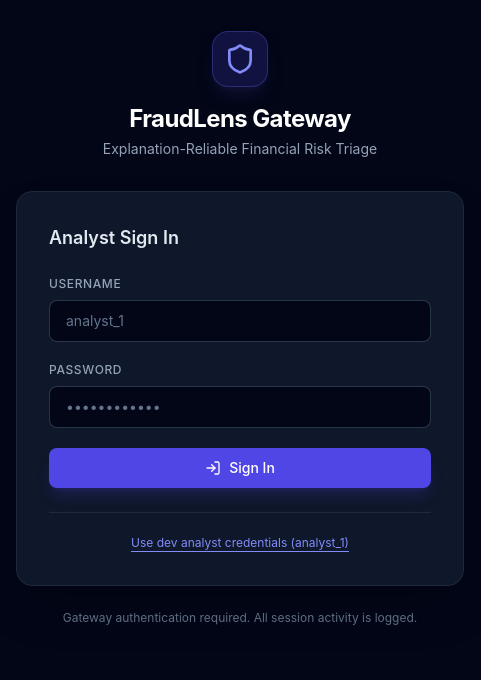
Test: Login Page workflow › submits credentials and handles login error
Type "wrong_user" into the field labelled "Username". click: (240, 320)
box: top-left (49, 300), bottom-right (431, 342)
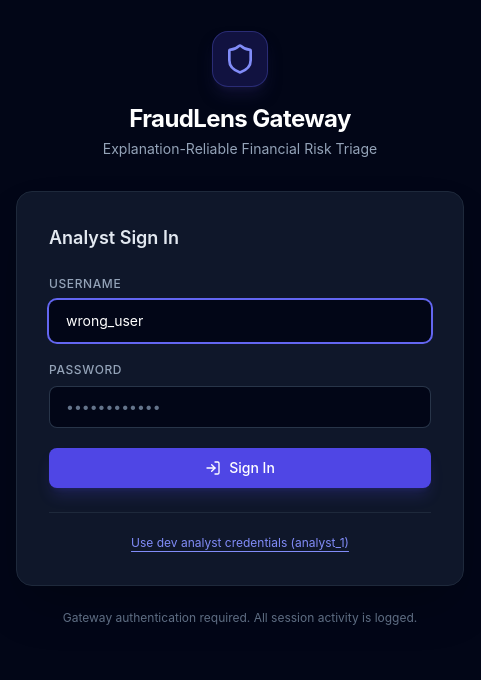
Type "wrong_password" into the password field labelled "Password". click: (240, 406)
box: top-left (49, 386), bottom-right (431, 428)
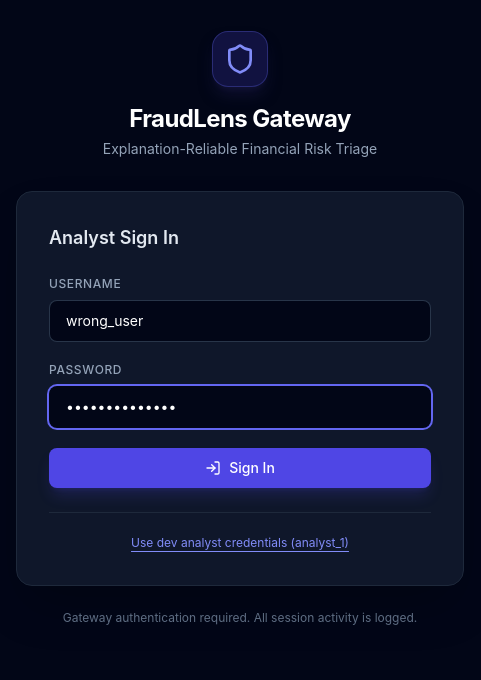
Click the button "Sign In". click: (240, 468)
box: top-left (49, 448), bottom-right (431, 488)
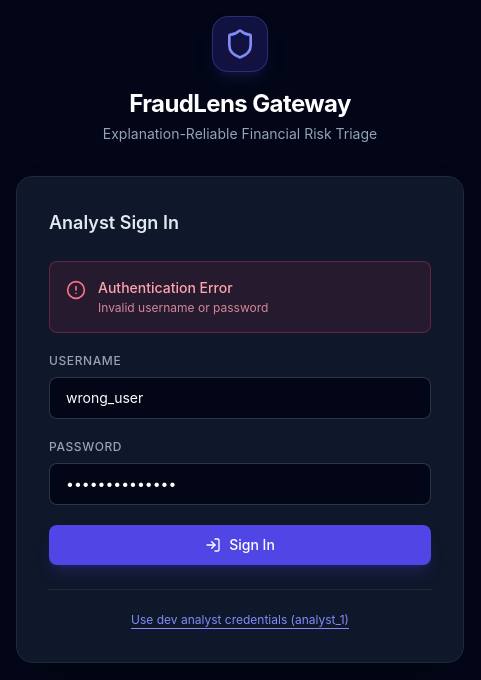
Expected: the text "Invalid username or password" is shown, top-left (98, 300), bottom-right (268, 316)
